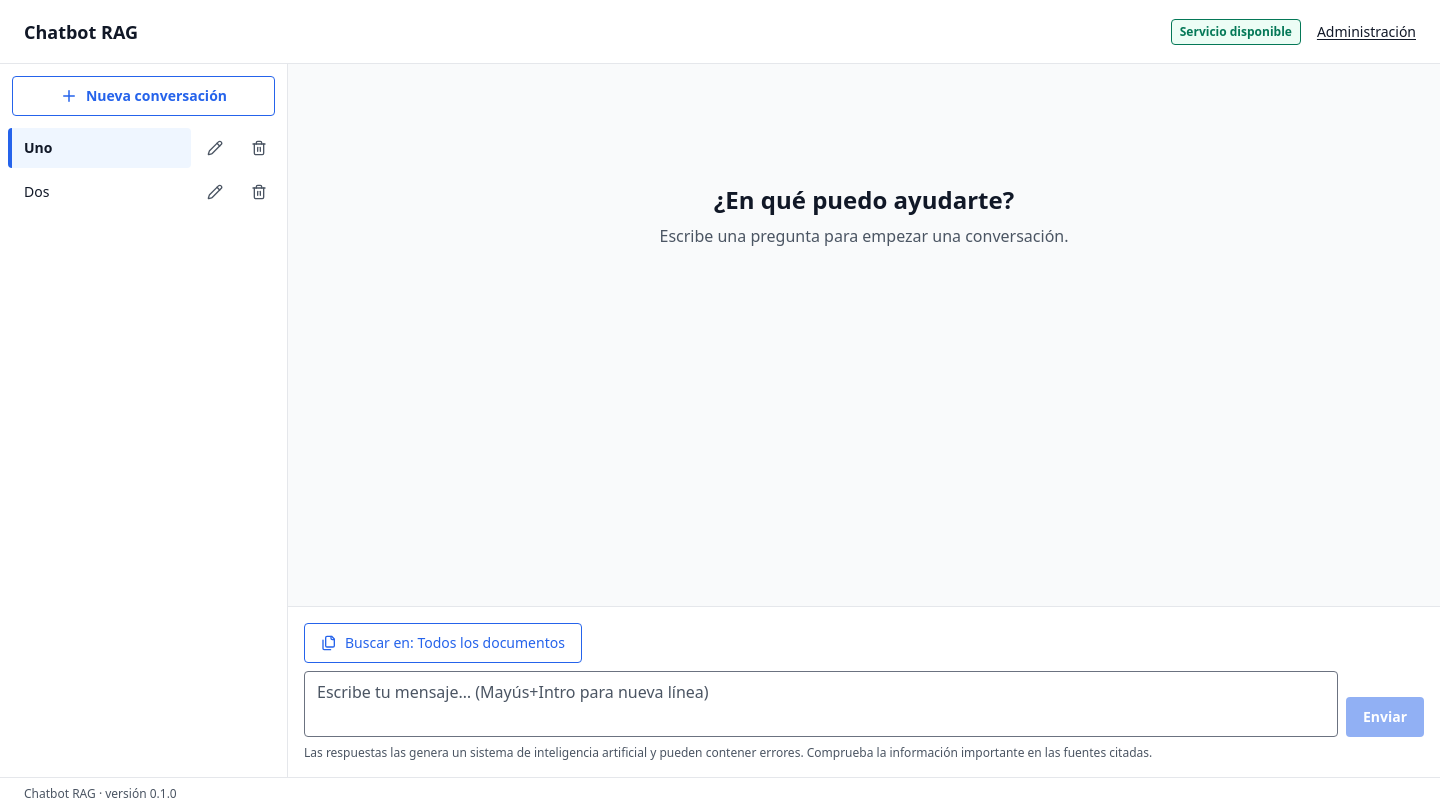
Test: Sidebar › elimina tras confirmar y vuelve a inicio si era la activa
Click the button named "Eliminar: Uno" at (259, 148), box left=239, top=128, right=279, bottom=168
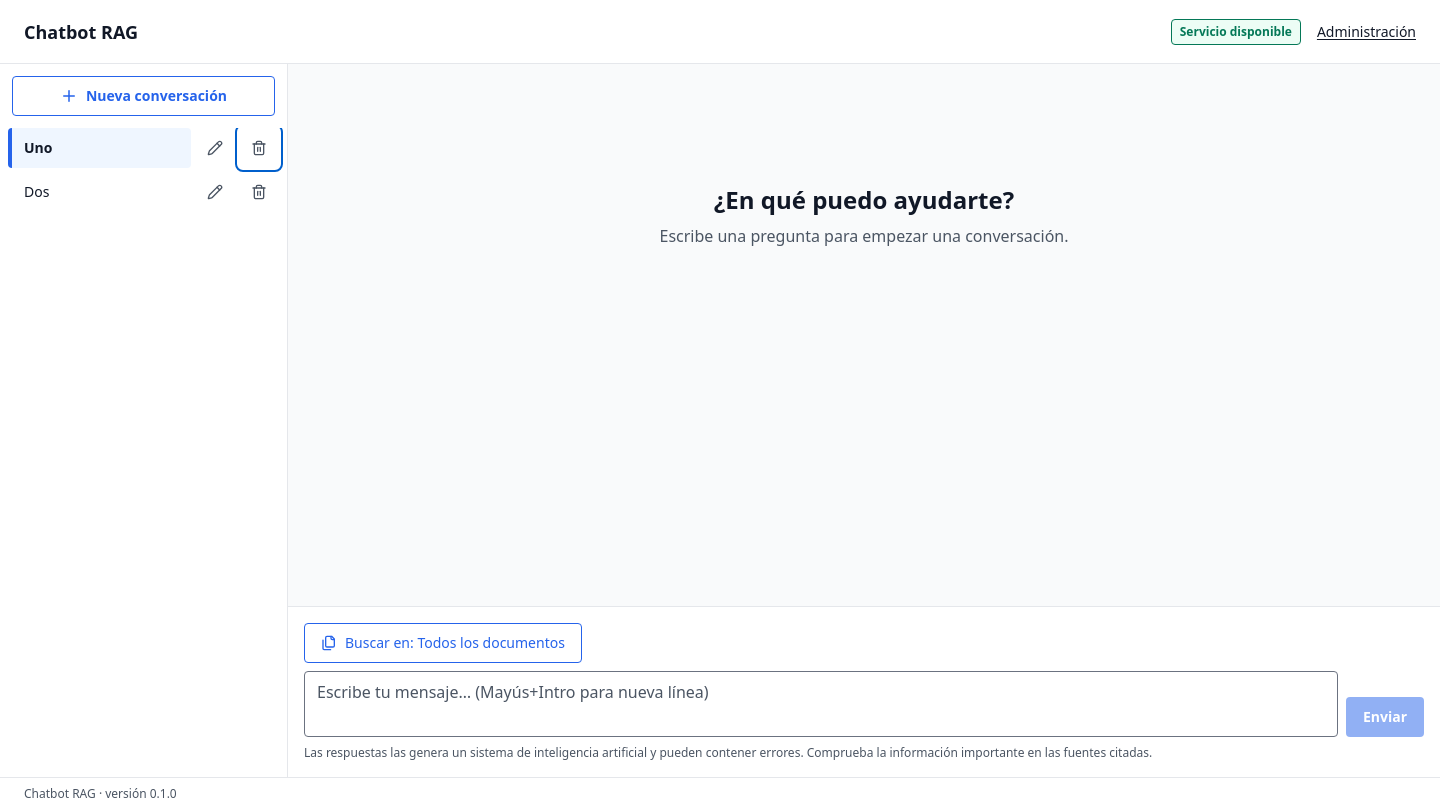
Expected: the link "Uno" is shown, left=8, top=128, right=191, bottom=168
Click the button named "Eliminar: Uno" at (259, 148), box left=239, top=128, right=279, bottom=168
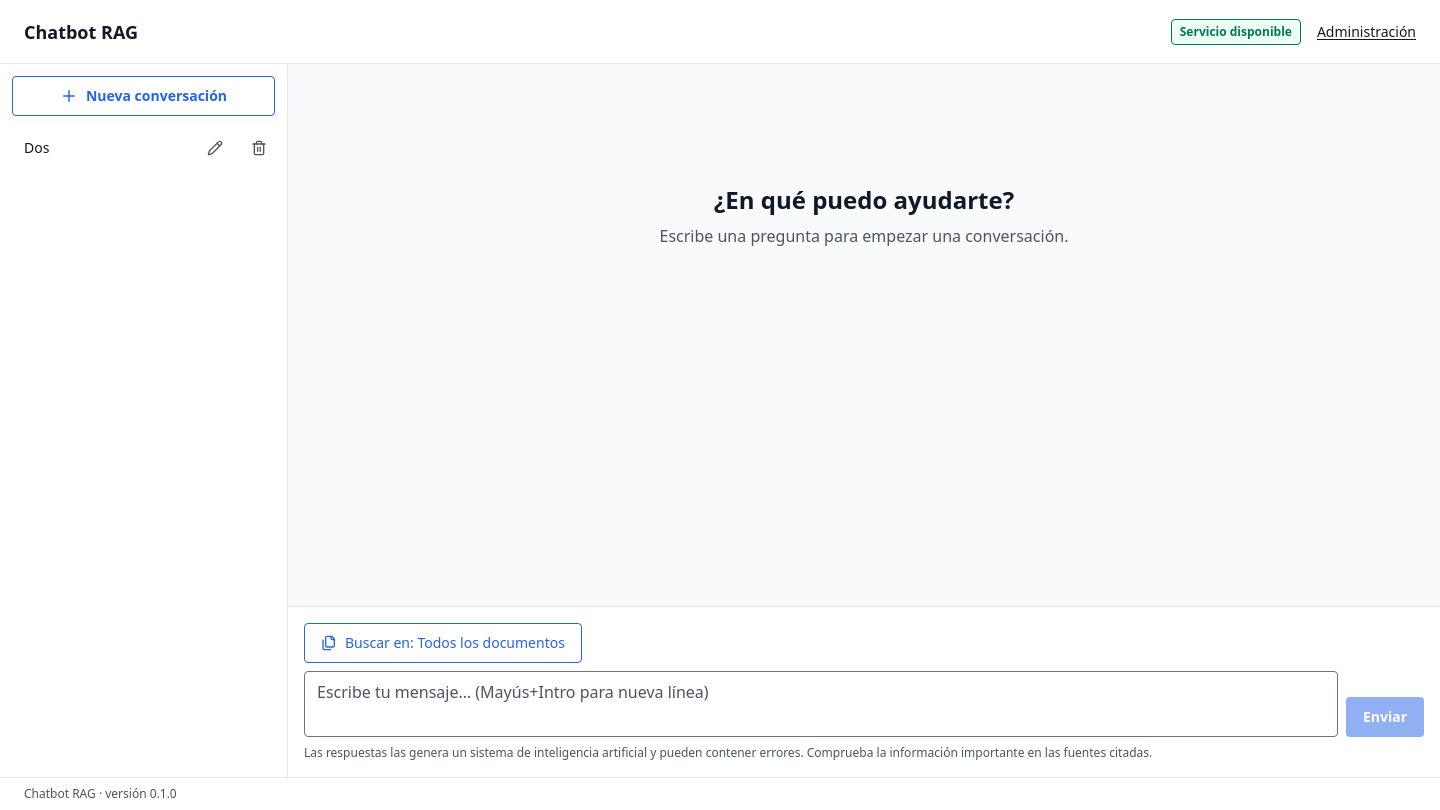
Expected: the heading "¿En qué puedo ayudarte?" is shown, left=714, top=183, right=1014, bottom=216
Result: the link "Uno" is gone
